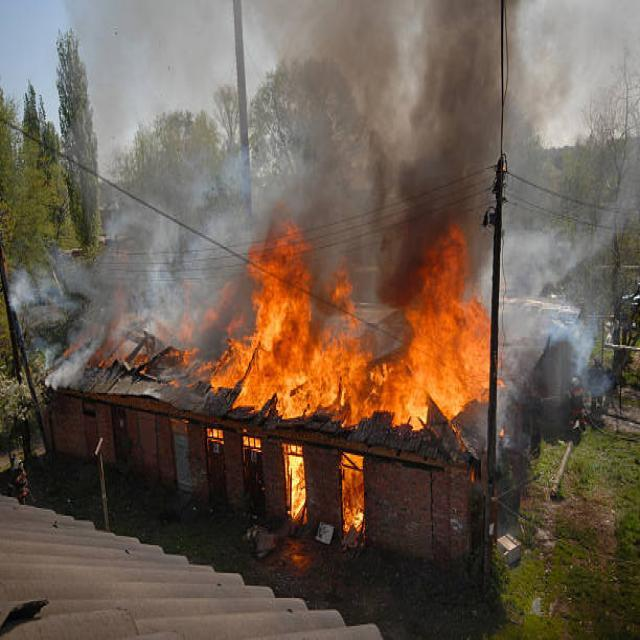Fire: (229, 252, 492, 434), (341, 453, 365, 544), (282, 450, 310, 520)
Smoke: (268, 2, 508, 320)
